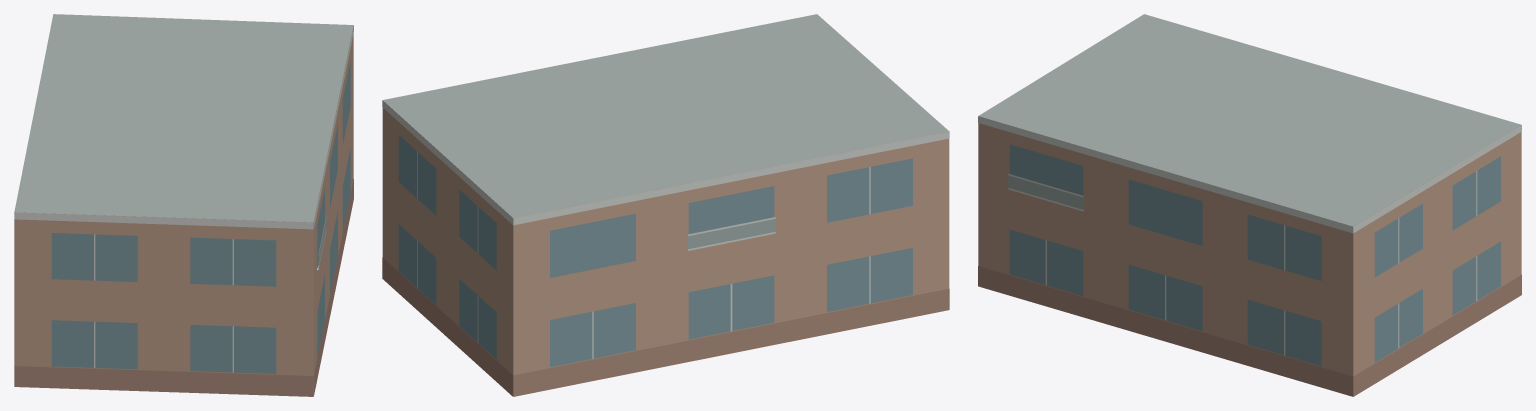
The model's file is survey-upis-32905432.glb.
3 views of the same model, side by side, from view 1: azimuth 30°, elevation 25°; view 2: azimuth 150°, elevation 25°; view 3: azimuth 270°, elevation 25° (orthographic). The views are drawn at different scales.
Visible parts, largest first — view 1: survey-upis-32905432.tmp; view 2: survey-upis-32905432.tmp; view 3: survey-upis-32905432.tmp.
Boxes of the visible parts, bbox=[...] form: survey-upis-32905432.tmp: bbox=[14, 14, 353, 396]; survey-upis-32905432.tmp: bbox=[382, 14, 949, 396]; survey-upis-32905432.tmp: bbox=[978, 14, 1521, 396].
Size of the model in its own units: 16.35 by 6.1 by 17.66.
